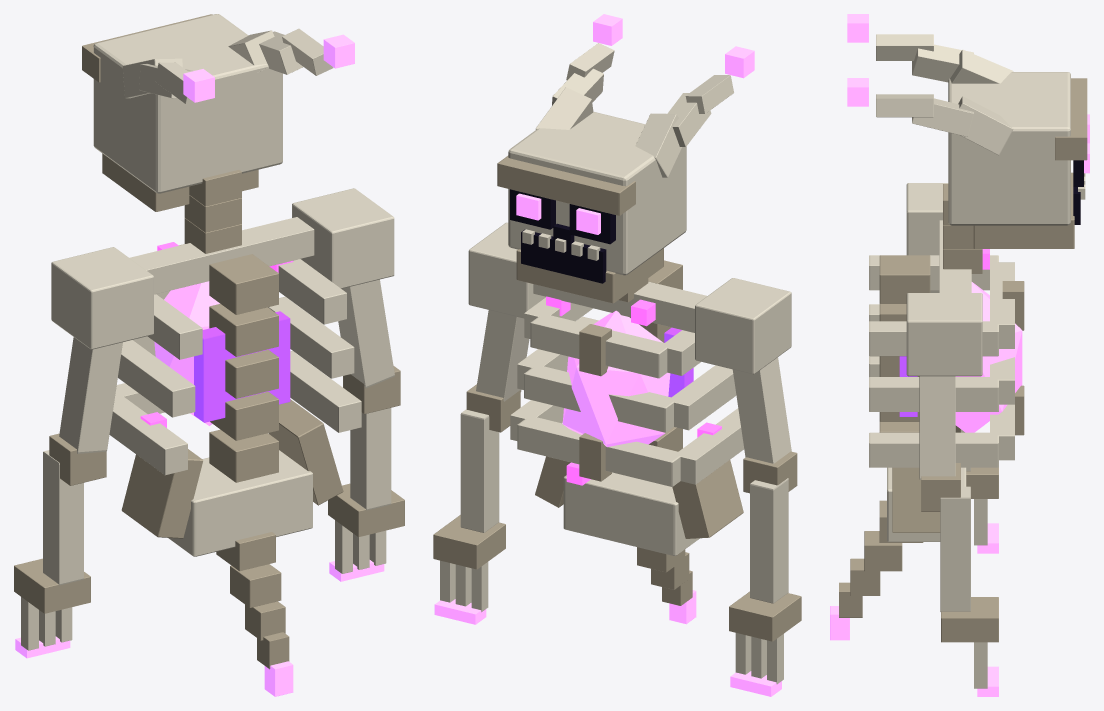
Rendered from cosmic-skeleton-boss.glb.
3 views of the same model, side by side, from view 1: azimuth 30°, elevation 25°; view 2: azimuth 150°, elevation 25°; view 3: azimuth 270°, elevation 25° (orthographic). The views are drawn at different scales.
Visible parts, largest first — view 1: body, head, arm.R, arm.L, tail, ear.L, ear.R; view 2: body, head, arm.R, arm.L, ear.R, ear.L, tail; view 3: body, head, arm.L, ear.L, ear.R, tail, arm.R.
Part boxes in pixels (bbox=[...]): body: bbox=[51, 170, 394, 556]; head: bbox=[82, 14, 282, 211]; arm.R: bbox=[14, 337, 122, 658]; arm.L: bbox=[328, 279, 404, 581]; tail: bbox=[216, 532, 293, 696]; ear.L: bbox=[228, 28, 354, 75]; ear.R: bbox=[122, 58, 214, 103]; body: bbox=[468, 222, 791, 555]; head: bbox=[497, 111, 686, 303]; arm.R: bbox=[729, 357, 801, 696]; arm.L: bbox=[433, 310, 529, 624]; ear.R: bbox=[635, 46, 754, 177]; ear.L: bbox=[535, 14, 622, 129]; tail: bbox=[637, 547, 696, 624]; body: bbox=[869, 183, 1024, 541]; head: bbox=[948, 72, 1089, 248]; arm.L: bbox=[919, 376, 998, 696]; ear.L: bbox=[847, 78, 1013, 155]; ear.R: bbox=[847, 14, 1013, 83]; tail: bbox=[830, 500, 923, 640]; arm.R: bbox=[930, 290, 998, 553].
Bounding box in the file's own units: 0.5762 × 0.9551 × 0.3839.
